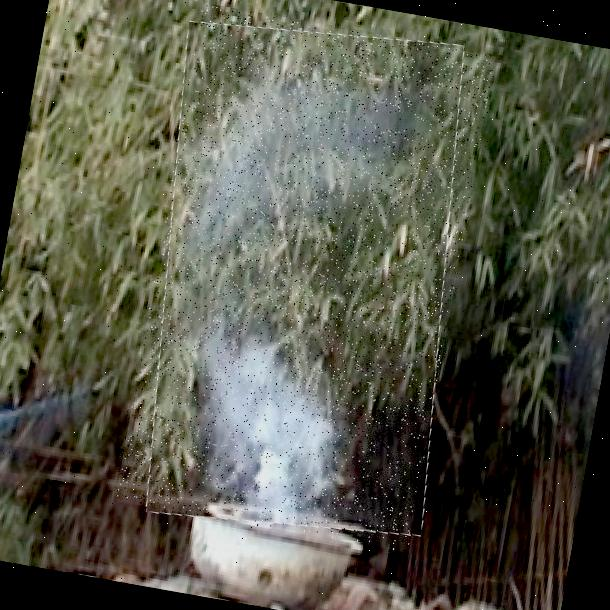smoke: (115, 4, 495, 552)
